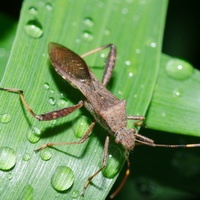insect: (0, 94, 105, 199)
